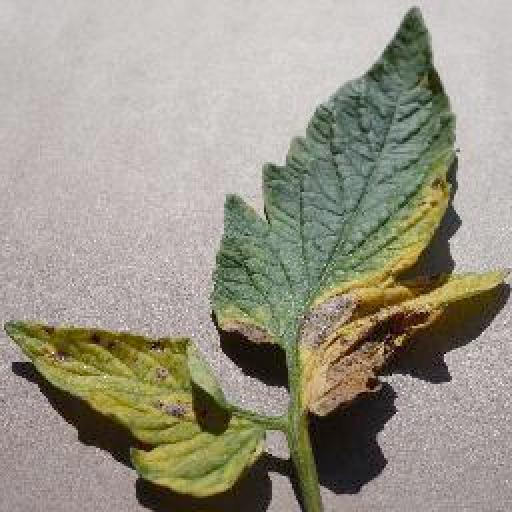disease_tomato: (210, 4, 512, 422)
